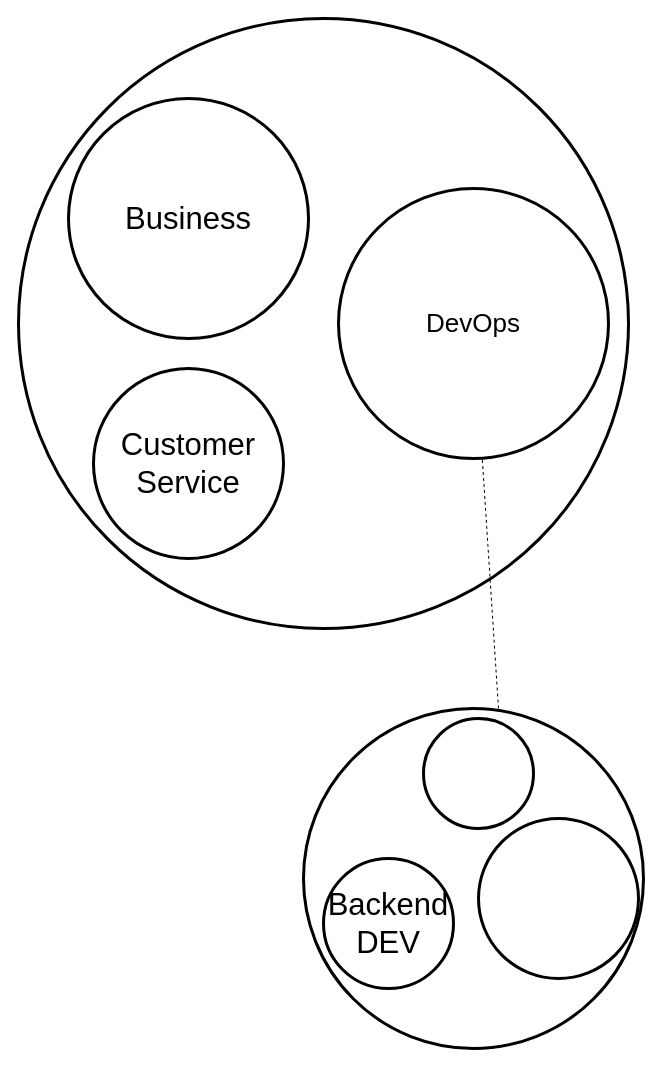
This 662x1067 diagram has some shape labels left out. Here are the shapes that lost their labels. From the top down, the centre of each, then its label:
At (x=478, y=773): "QA".
At (x=558, y=898): "Automation Engineer".
